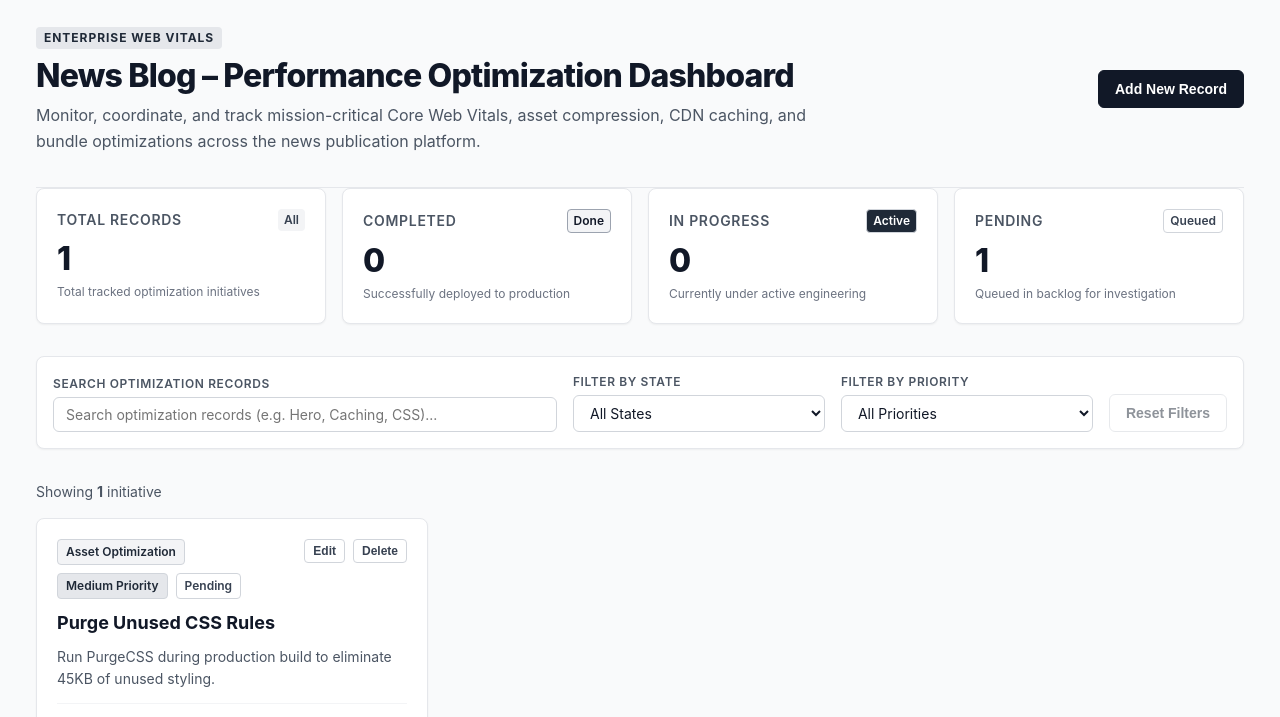
B. Record Management Requirements › adds a new optimization record with title, category, priority, assigned staff and description
Click the button "Add New Record" at (1171, 89), box [1098, 70, 1244, 108]
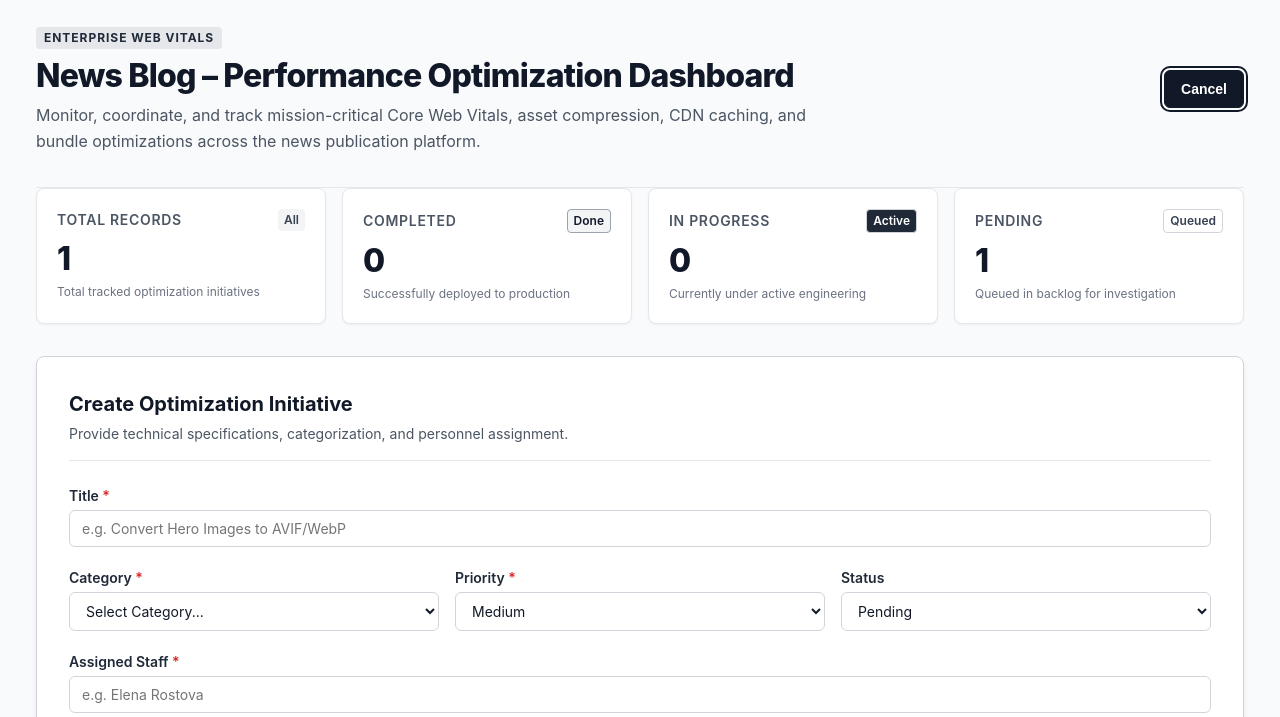
Type "Enable Brotli Compression on Nginx" into the field labelled "Title *" at (640, 528), box [69, 510, 1211, 547]
Select "Server / CDN" in the dropdown labelled "Category *" at (254, 611), box [69, 592, 439, 631]
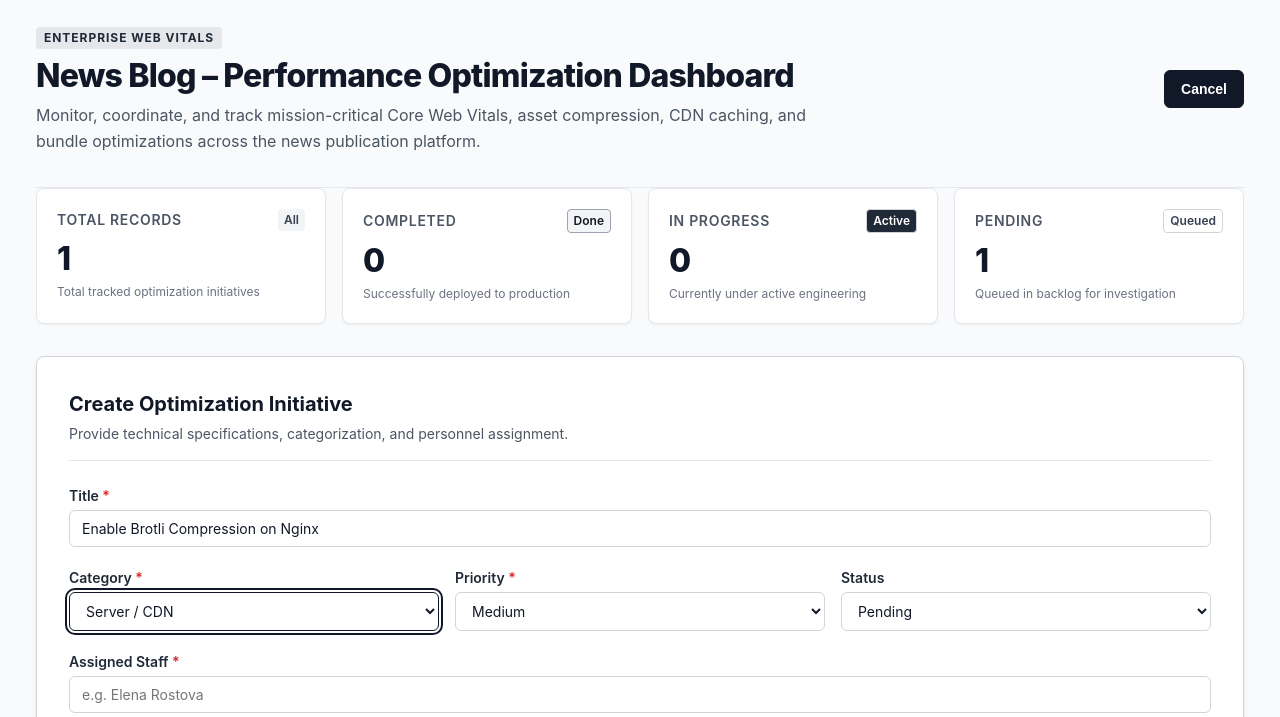
Select "High" in the dropdown labelled "Priority *" at (640, 611), box [455, 592, 825, 631]
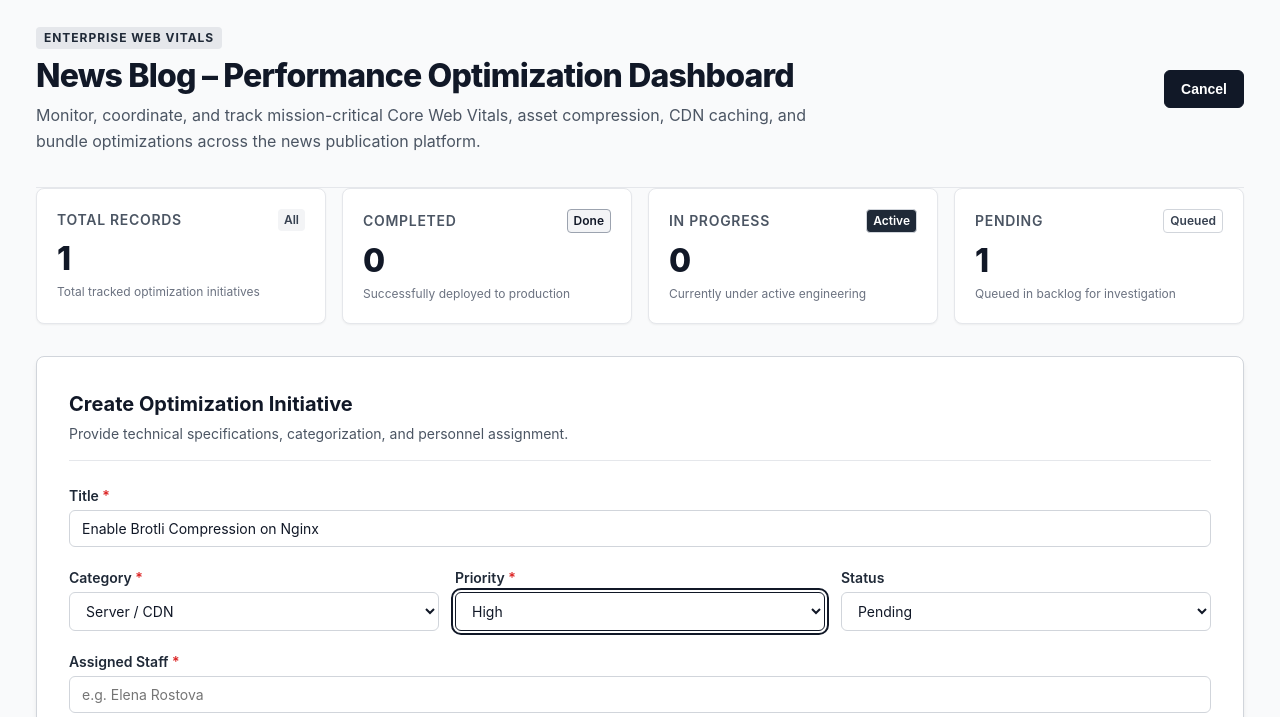
Type "Maya Lin" into the field labelled "Assigned Staff *" at (640, 694), box [69, 676, 1211, 713]
(page scrolled)
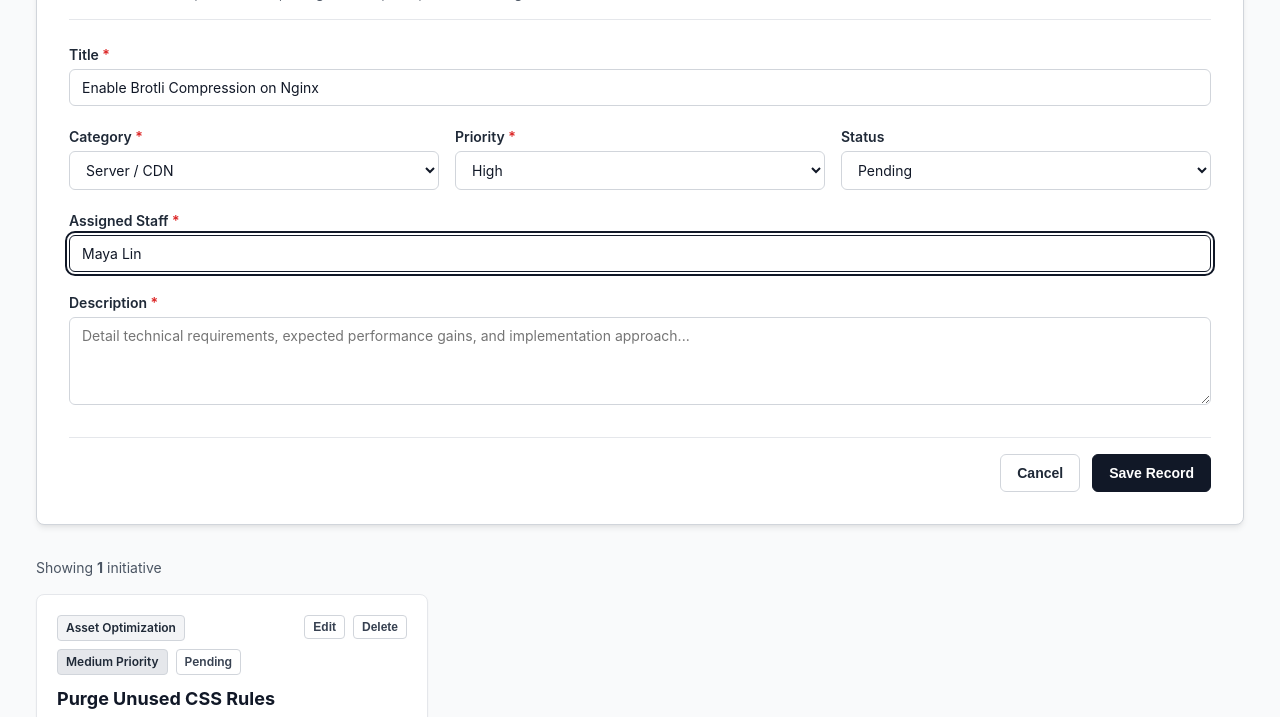
Type "Enable brotli static and dynamic compression for HTML, CSS, and JS responses." into the text box labelled "Description *" at (640, 361), box [69, 317, 1211, 405]
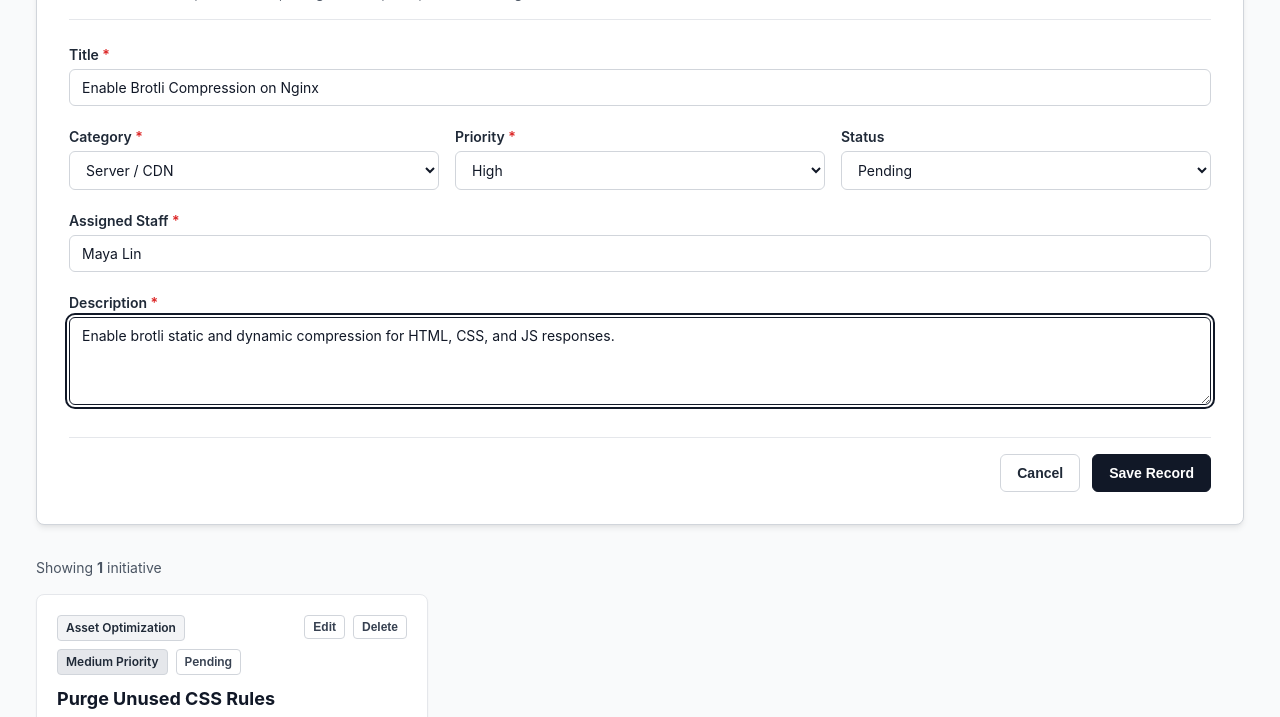
Click the button "Save Record" at (1152, 473), box [1092, 454, 1211, 492]
(page scrolled)
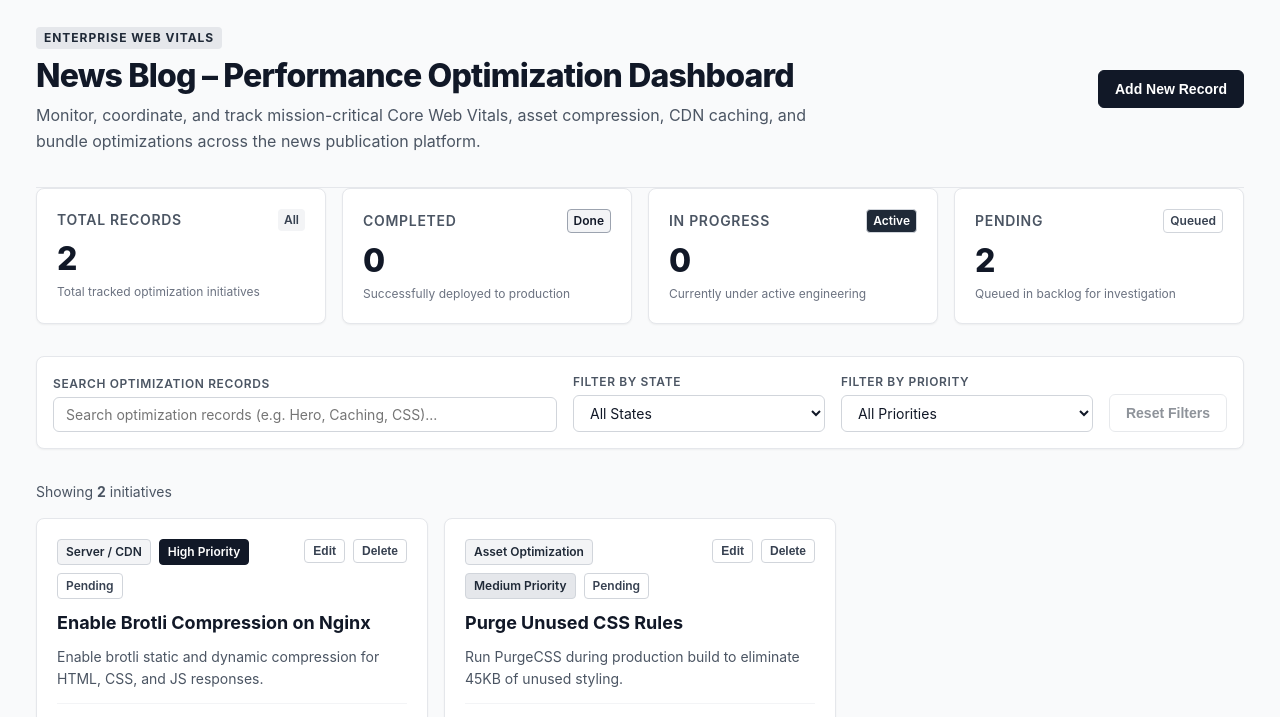
Check: the heading "Enable Brotli Compression on Nginx" is shown, box [57, 611, 407, 634]
Check: the text "Server / CDN" is shown, box [57, 539, 151, 565]
Check: the text "2" below "Total Records" is shown, box [57, 239, 77, 278]
